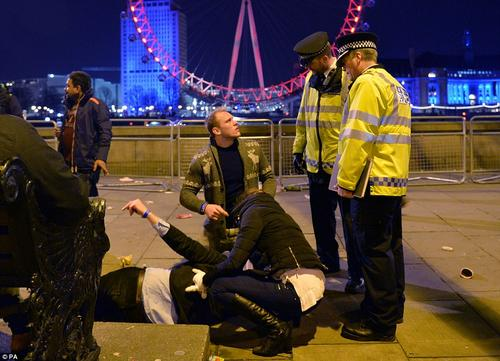fall: (22, 255, 264, 337)
